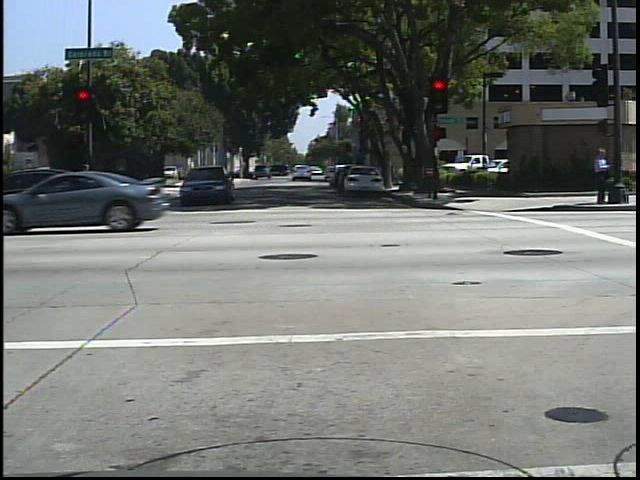person: (70, 158, 101, 222), (589, 144, 615, 209)
